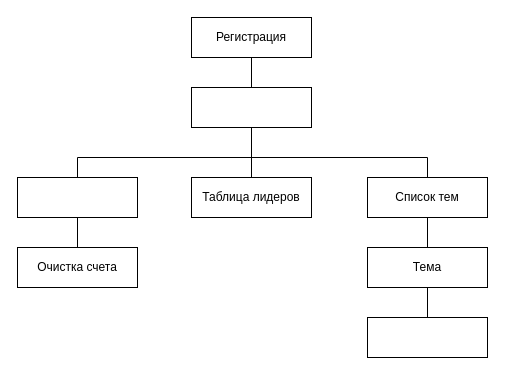
This 505x375 diagram has some shape labels left out. The shapes that lost their labels are listed below. From the top down, each one's centre as x and y in pixels, then its label:
At [251,107]: "Главное меню".
At [77,197]: "Личный счет".
At [427,337]: "Задания".
